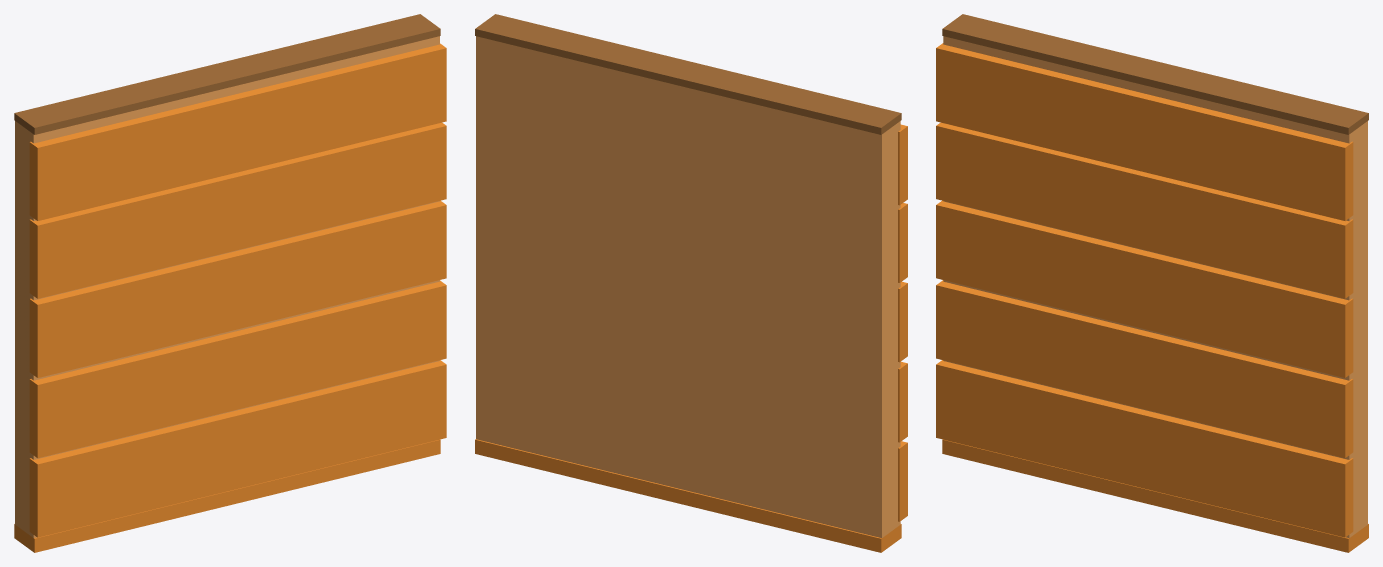
File: wall_sauna.fbx
3 views of the same model, side by side, from view 1: azimuth 30°, elevation 25°; view 2: azimuth 150°, elevation 25°; view 3: azimuth 330°, elevation 25° (orthographic).
Parts seen in each view (by area): view 1: IC_Wall01.008; view 2: IC_Wall01.008; view 3: IC_Wall01.008.
Boxes of the visible parts, bbox=[...] form: IC_Wall01.008: bbox=[14, 14, 446, 552]; IC_Wall01.008: bbox=[475, 14, 907, 552]; IC_Wall01.008: bbox=[936, 14, 1368, 552].
Size of the model in its own units: 302 by 300 by 32.03.
